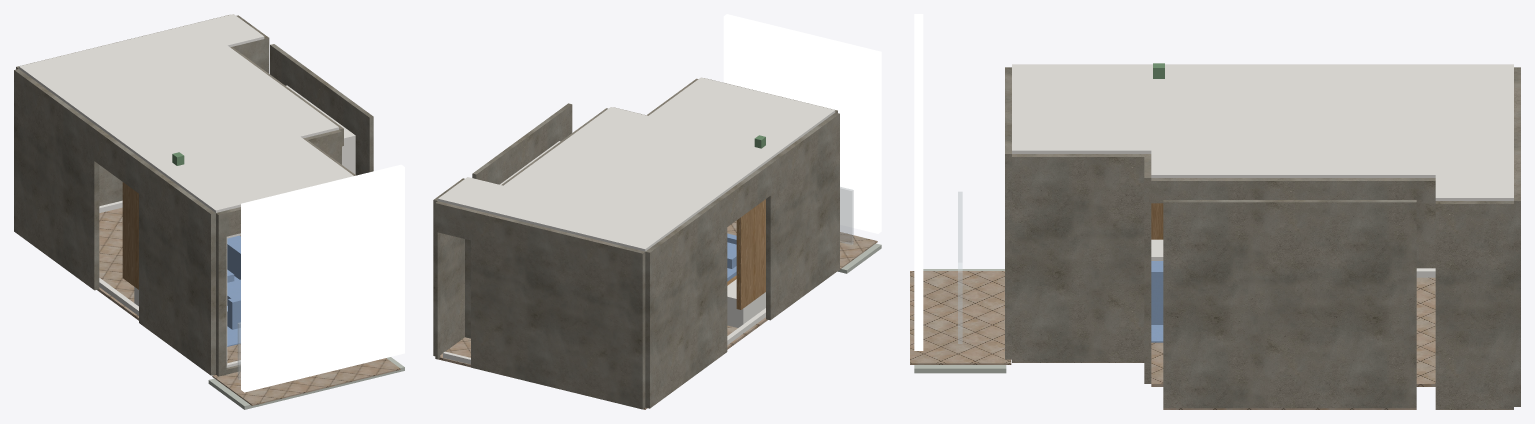
Rendered from estar-realista.glb.
The picture shows the model from 3 angles, left to right: view 1: azimuth 30°, elevation 25°; view 2: azimuth 150°, elevation 25°; view 3: azimuth 270°, elevation 25°; orthographic projection. The views are drawn at different scales.
Visible parts, largest first — view 1: estar; view 2: estar; view 3: estar.
Part boxes in pixels (left/top/right/bottom): estar: left=14, top=14, right=404, bottom=409; estar: left=433, top=14, right=881, bottom=409; estar: left=910, top=14, right=1520, bottom=409.
Size of the model in its own units: 3.86 by 3.28 by 6.99.
14 materials, 4 textured.
